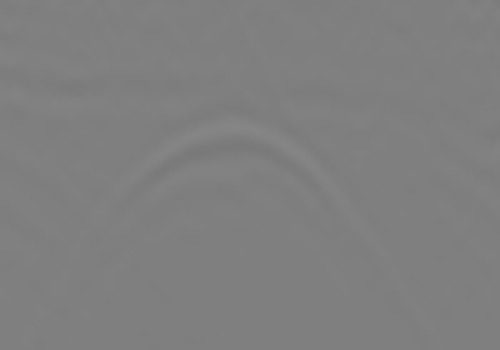hyperbola: (53, 115, 423, 310)
